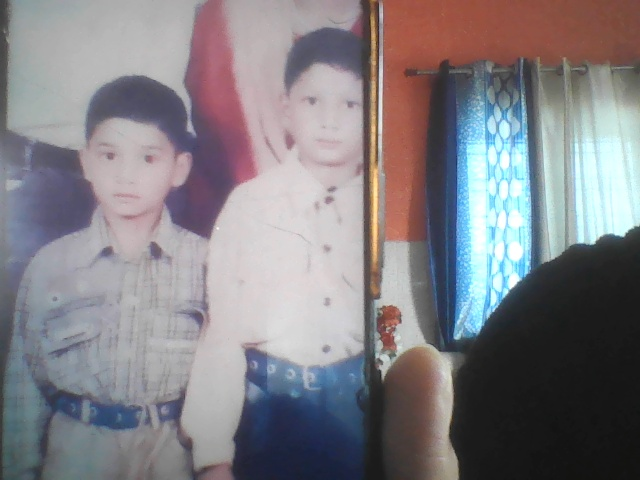fake: (82, 78, 184, 222)
